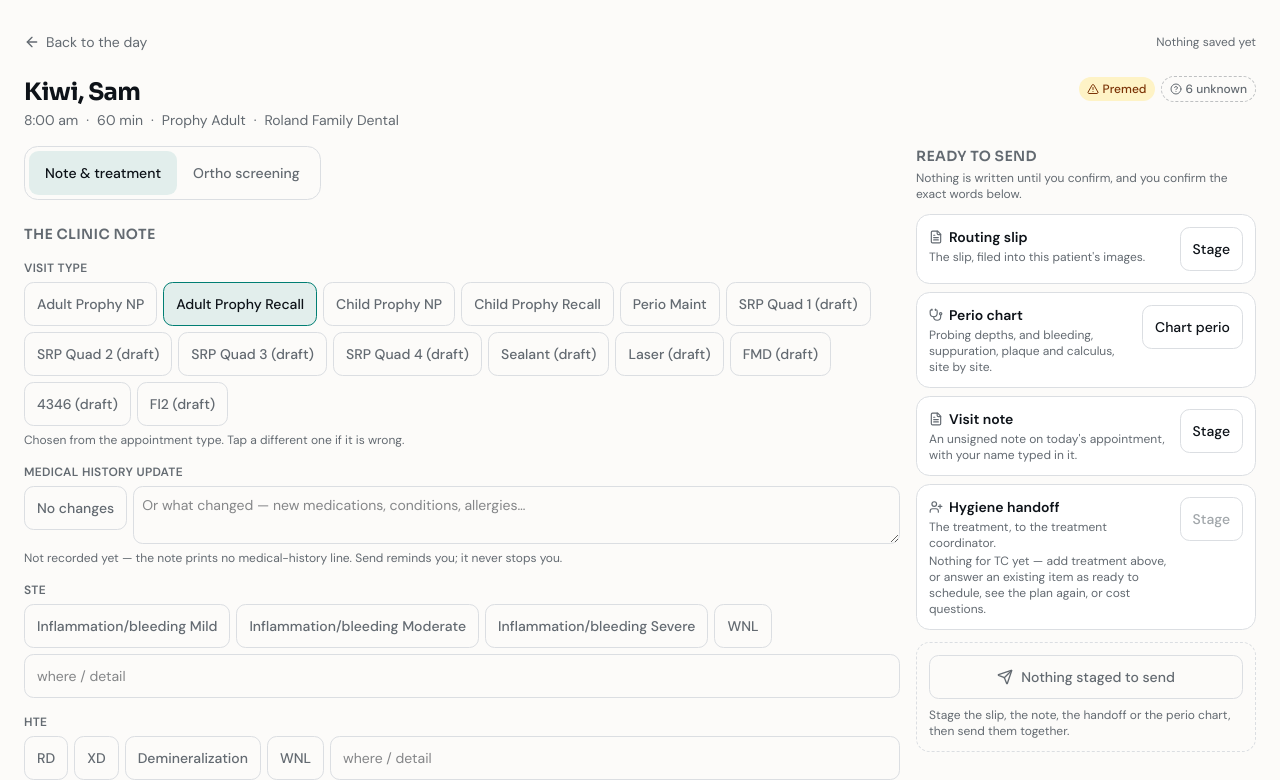
Test: nothing is gated on completeness › Send is disabled ONLY when nothing is staged — never by a completeness check
Check: the button with test id "hyg-send-all" is disabled, box [929,655,1243,699]
Click the button with test id "hyg-stage-router".
click(1211, 249)  # box [1180,227,1243,271]
(page scrolled)
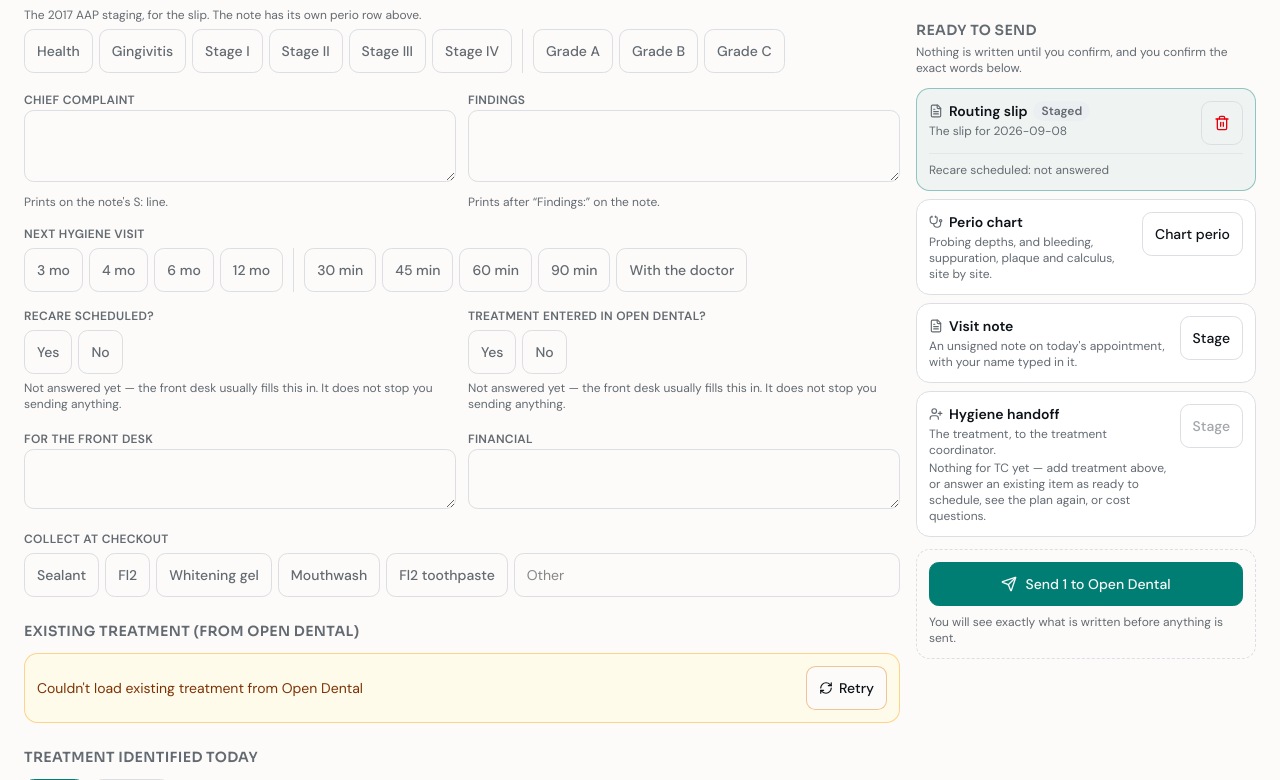
Check: the text with test id "hyg-slip-recare-reminder" is shown, box [24,380,456,412]
Check: the button with test id "hyg-send-all" is enabled, box [929,562,1243,606]
